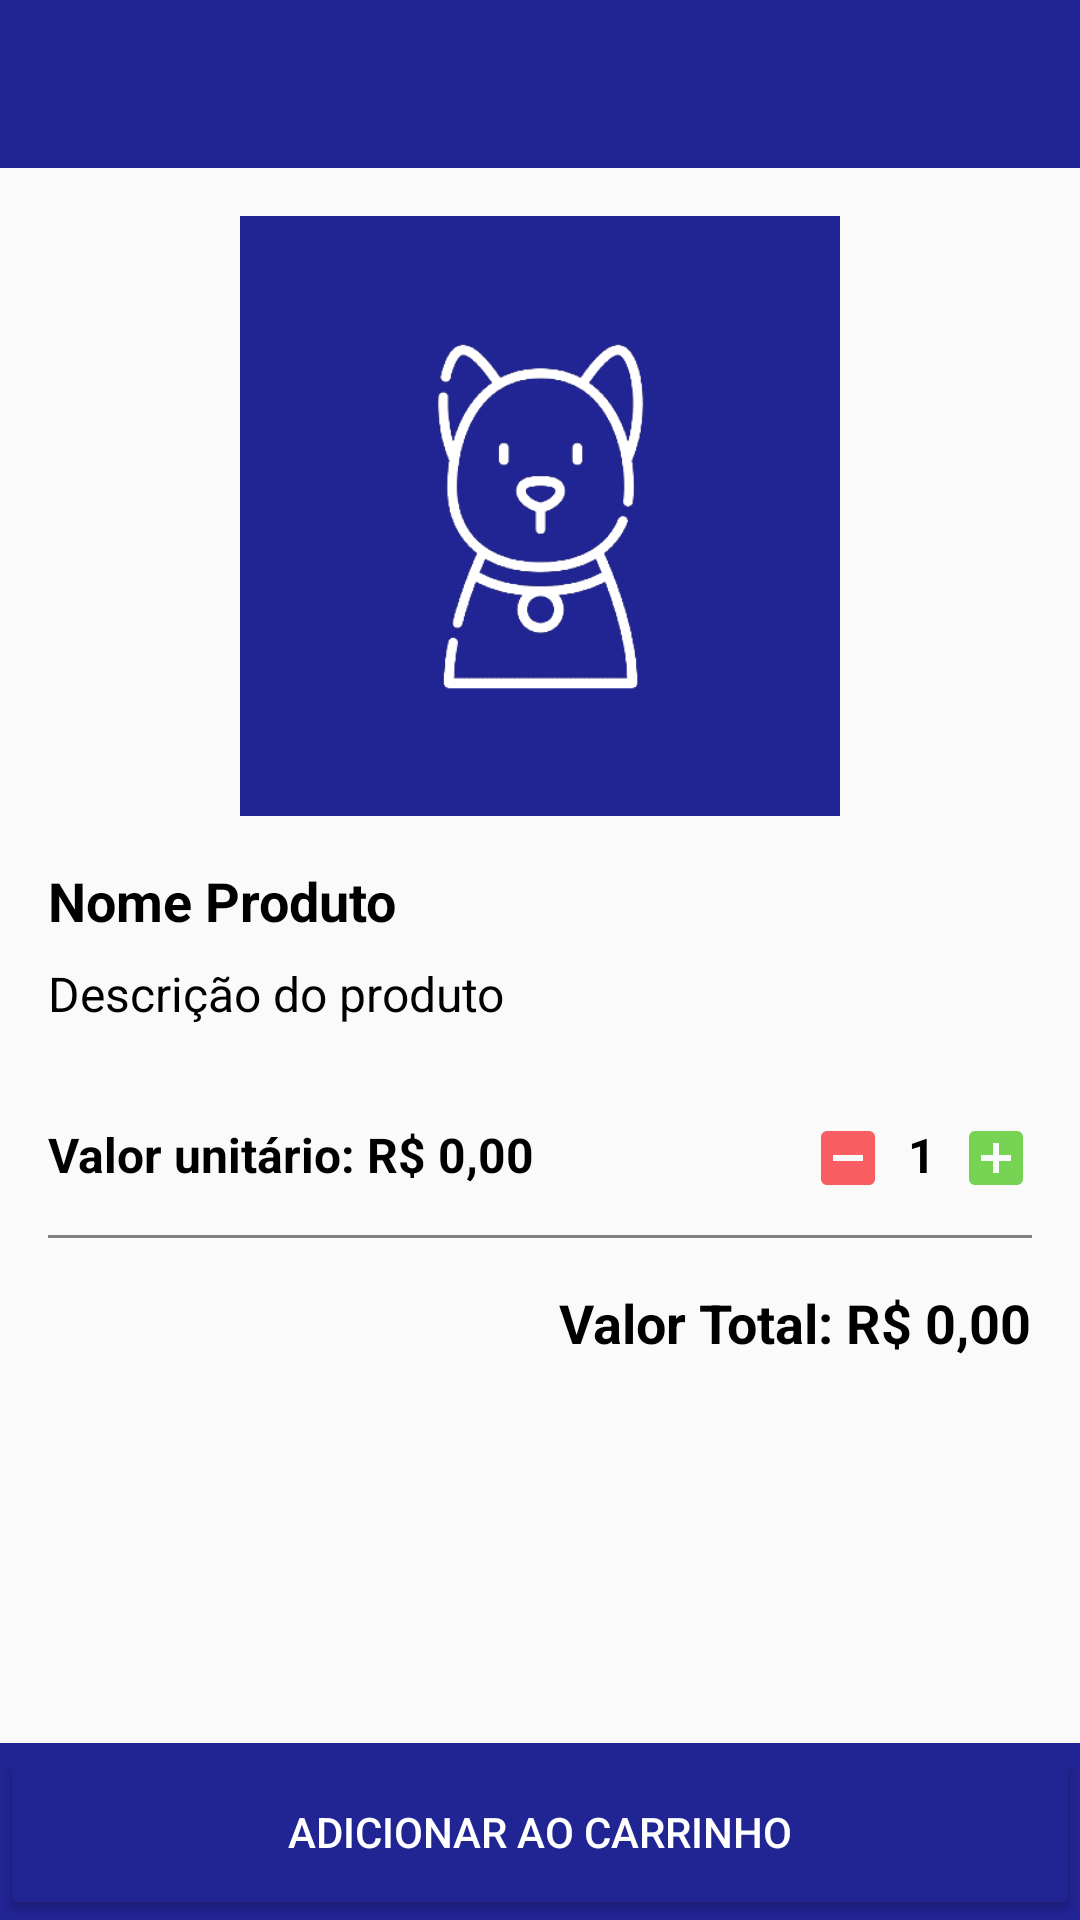

Named icons in this screenshot (1080*1920) and their bounding boxes, [left=x1, top=y1, right=x2, bottom=y2]:
mais: [left=969, top=1131, right=1023, bottom=1185]
menos: [left=821, top=1131, right=875, bottom=1185]
